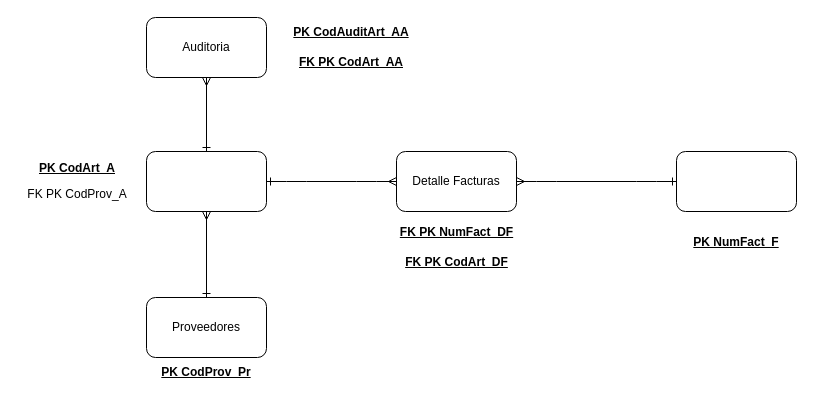
Some shapes in this 814 by 405 pixel diagram are drawn without their labels. The centre of each missing label's shape, as x and y in pixels:
"Articulos" belongs at point 206,181.
"Facturas" belongs at point 736,181.
